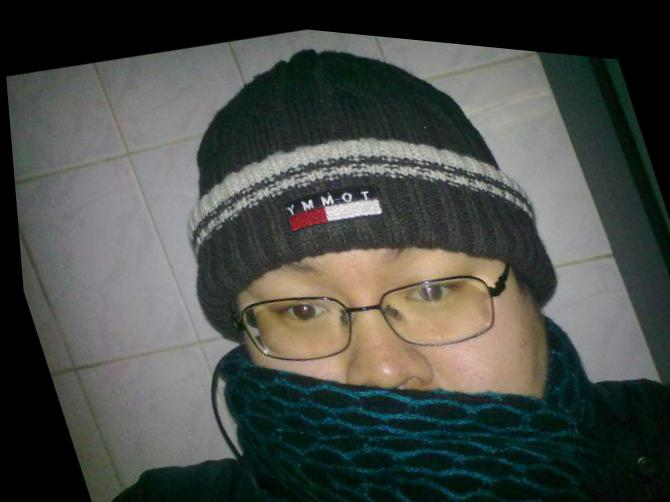WRONG: (230, 198, 572, 502)
